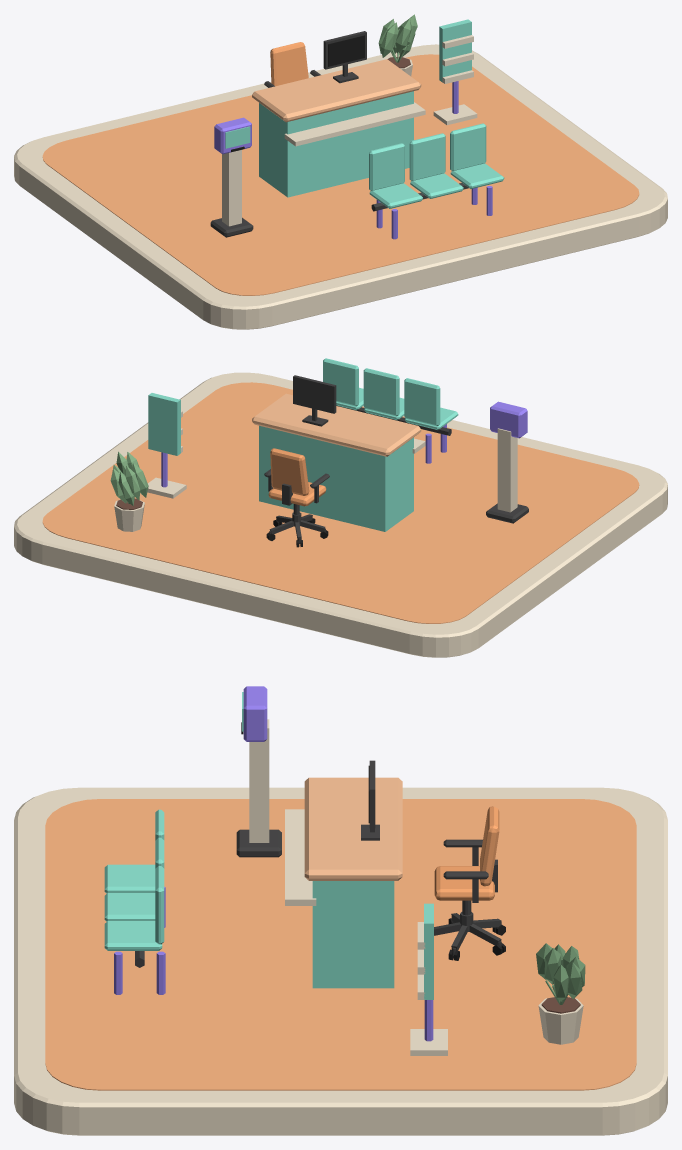
The model's file is room.fbx.
The picture shows the model from 3 angles, top to bottom: view 1: azimuth 30°, elevation 25°; view 2: azimuth 150°, elevation 25°; view 3: azimuth 270°, elevation 25°; orthographic projection. The views are drawn at different scales.
Visible parts, largest first — view 1: COM-02 Floor Surface, COM-01 Rounded Base Direct, Counter body, Countertop, Visitor shelf, Frame, Back.001, Back.002, COM-04_Chair_blender_direct, Back, Pedestal, Pot (+7 smaller); view 2: COM-02 Floor Surface, COM-01 Rounded Base Direct, Counter body, Countertop, COM-04_Chair_blender_direct, Pot, Pedestal, Frame, Back.001, Back, Back.002, Display housing (+5 smaller); view 3: COM-02 Floor Surface, COM-01 Rounded Base Direct, Countertop, Counter body, COM-04_Chair_blender_direct, Pot, Pedestal, Visitor shelf, Seat.002, Seat, Seat.001, Display housing (+4 smaller).
Part boxes in pixels (x1,y1,x2,y2): COM-02 Floor Surface: (42,54,639,295); COM-01 Rounded Base Direct: (14,44,667,329); Counter body: (259,91,413,197); Countertop: (252,59,421,122); Visitor shelf: (284,102,425,146); Frame: (323,31,366,83); Back.001: (409,133,445,180); Back.002: (450,123,486,170); COM-04_Chair_blender_direct: (264,42,320,87); Back: (369,143,404,190); Pedestal: (222,150,241,226); Pot: (378,14,417,76); COM-02 Floor Surface: (42,382,639,623); COM-01 Rounded Base Direct: (14,372,667,657); Counter body: (259,425,413,531); Countertop: (252,393,421,456); COM-04_Chair_blender_direct: (264,448,329,547); Pot: (110,451,148,531); Pedestal: (497,428,517,512); Frame: (293,375,336,426); Back.001: (363,368,399,416); Back: (404,378,440,426); Back.002: (323,358,358,406); Display housing: (490,401,527,438); COM-02 Floor Surface: (45,799,636,1090); COM-01 Rounded Base Direct: (14,787,667,1135); Countertop: (304,777,402,880); Counter body: (312,881,394,988); COM-04_Chair_blender_direct: (434,806,505,960); Pot: (536,943,585,1044); Pedestal: (249,719,269,842); Visitor shelf: (285,809,316,905); Seat.002: (104,921,162,950); Seat: (104,864,155,893); Seat.001: (104,893,155,921); Display housing: (243,686,267,741).
Bounding box in the file's own units: 600 × 187 × 520.
